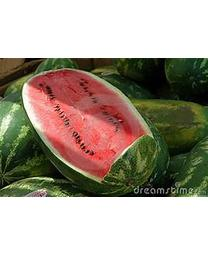watermelon: (21, 68, 168, 191)
